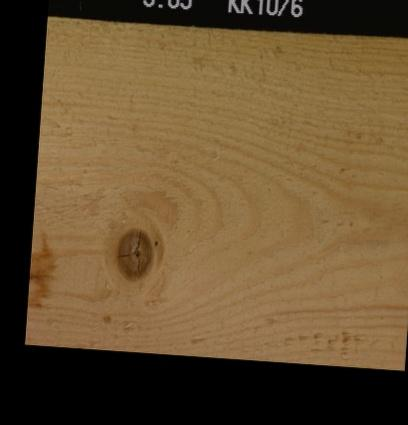sound_knot: (113, 226, 153, 282)
